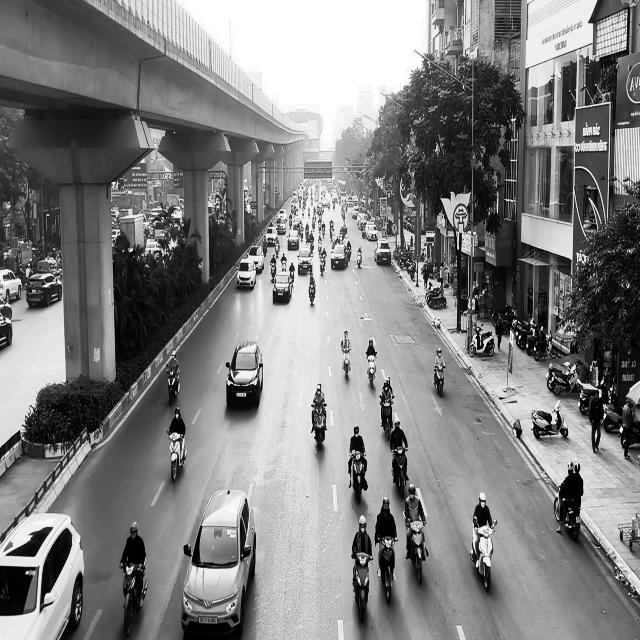car: (181, 487, 257, 638), (0, 512, 85, 639), (226, 340, 264, 408), (273, 271, 293, 303), (237, 258, 256, 288)
motorbike: (120, 556, 149, 637), (470, 518, 498, 593), (404, 512, 429, 584), (554, 484, 582, 542), (352, 551, 374, 623), (376, 534, 398, 604), (531, 399, 569, 439), (166, 430, 188, 481), (348, 450, 368, 504), (391, 446, 408, 499), (469, 324, 495, 356), (312, 402, 328, 448), (380, 395, 395, 440), (166, 366, 181, 406), (433, 362, 445, 397), (367, 353, 378, 388), (341, 344, 352, 378), (309, 280, 316, 305)
